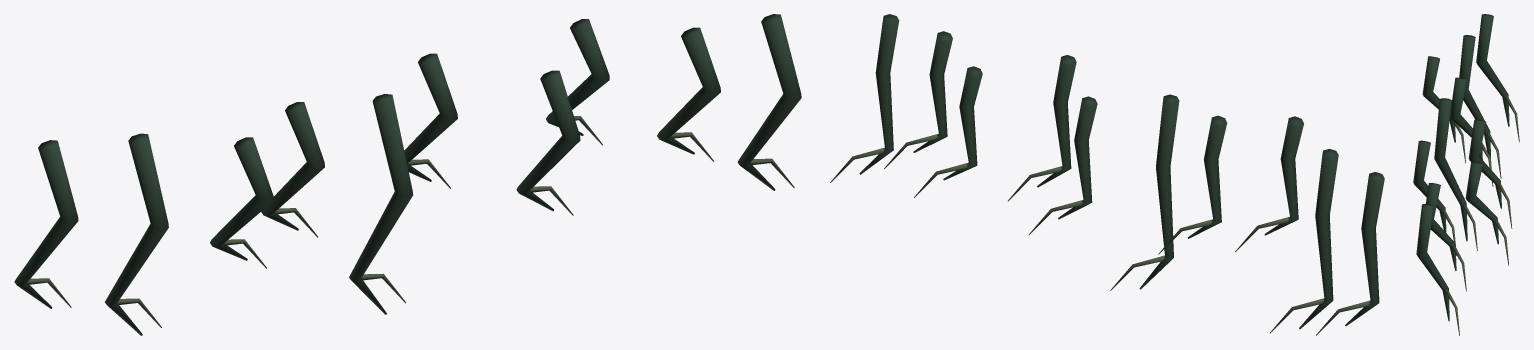
File: moss-curtain.glb
The picture shows the model from 3 angles, left to right: view 1: azimuth 30°, elevation 25°; view 2: azimuth 150°, elevation 25°; view 3: azimuth 270°, elevation 25°; orthographic projection. The views are drawn at different scales.
Parts seen in each view (by area): view 1: Surface; view 2: Surface; view 3: Surface.
Boxes of the visible parts, <box> form: Surface: <box>14,14,801,335</box>; Surface: <box>830,14,1384,335</box>; Surface: <box>1413,14,1519,335</box>.
Size of the model in its own units: 1.41 by 0.4369 by 0.3035.
